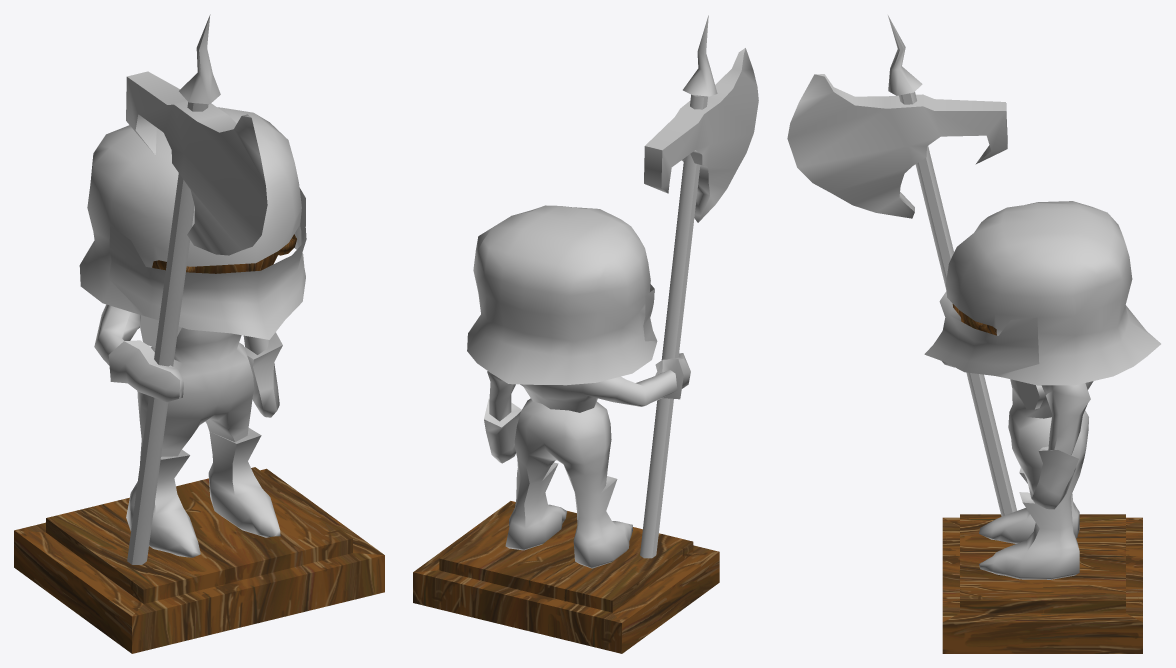
File: e_asset_armor_halbard.fbx
3 views of the same model, side by side, from view 1: azimuth 30°, elevation 25°; view 2: azimuth 150°, elevation 25°; view 3: azimuth 270°, elevation 25° (orthographic). The views are drawn at different scales.
Parts seen in each view (by area): view 1: polySurface3223; view 2: polySurface3223; view 3: polySurface3223.
Boxes of the visible parts, bbox=[...] form: polySurface3223: bbox=[14, 14, 384, 653]; polySurface3223: bbox=[413, 15, 758, 653]; polySurface3223: bbox=[787, 15, 1160, 653].
Bounding box in the file's own units: 0.4919 × 1.21 × 0.7426.
